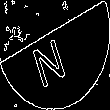N_NW: (34, 24, 76, 86)
